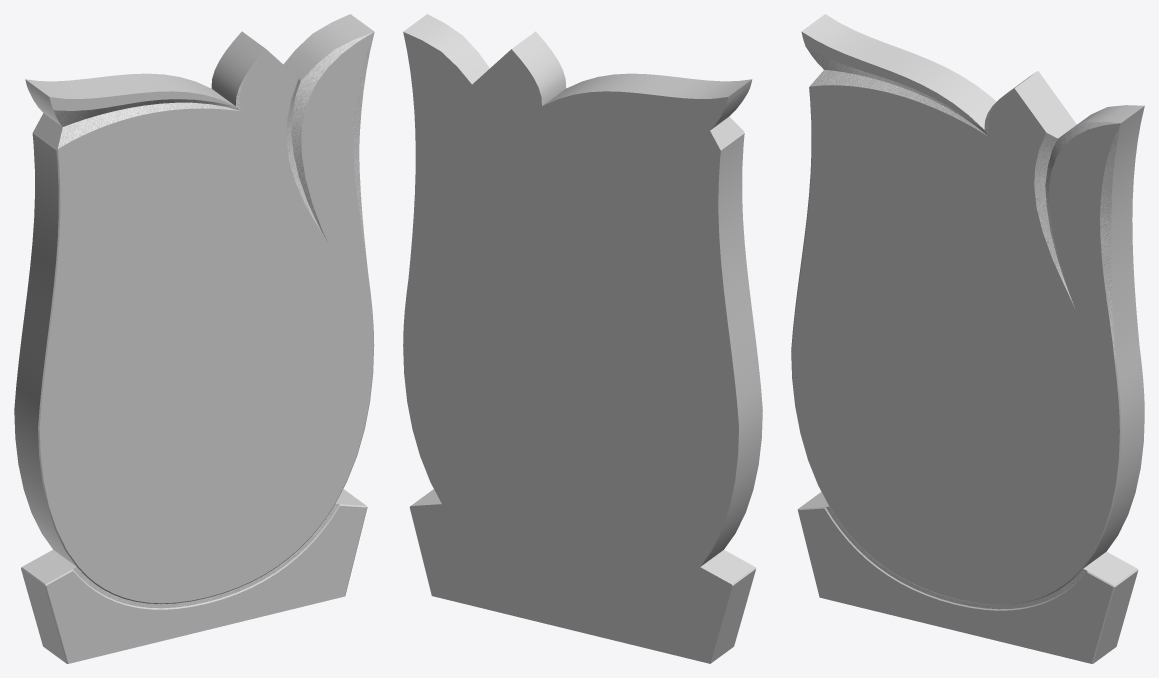
Rendered from cn7d66e9a83d_tkf.glb.
3 views of the same model, side by side, from view 1: azimuth 30°, elevation 25°; view 2: azimuth 150°, elevation 25°; view 3: azimuth 330°, elevation 25° (orthographic).
Parts seen in each view (by area): view 1: Pam-v-168, Pam-v-168_2_notexture; view 2: Pam-v-168; view 3: Pam-v-168, Pam-v-168_2_notexture.
Part boxes in pixels (x1,y1,x2,y2): Pam-v-168: [14, 14, 374, 663]; Pam-v-168_2_notexture: [54, 32, 374, 608]; Pam-v-168: [403, 14, 762, 663]; Pam-v-168: [791, 14, 1144, 663]; Pam-v-168_2_notexture: [806, 47, 1120, 609].
Size of the model in its own units: 0.4 by 0.65 by 0.05.
1 material, 1 textured.
